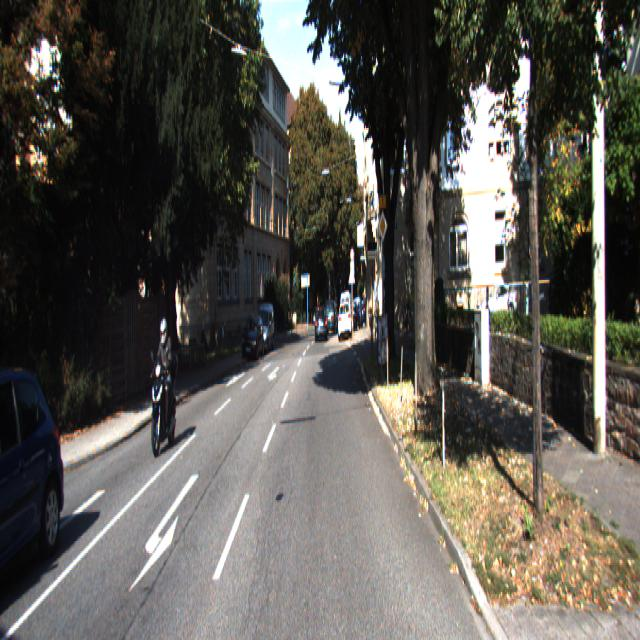Car: (0, 348, 69, 608), (145, 313, 182, 457), (240, 312, 266, 362), (254, 299, 275, 353), (338, 300, 351, 340), (315, 305, 327, 344)
